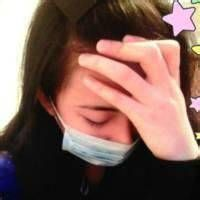face_mask: (60, 59, 155, 166)
